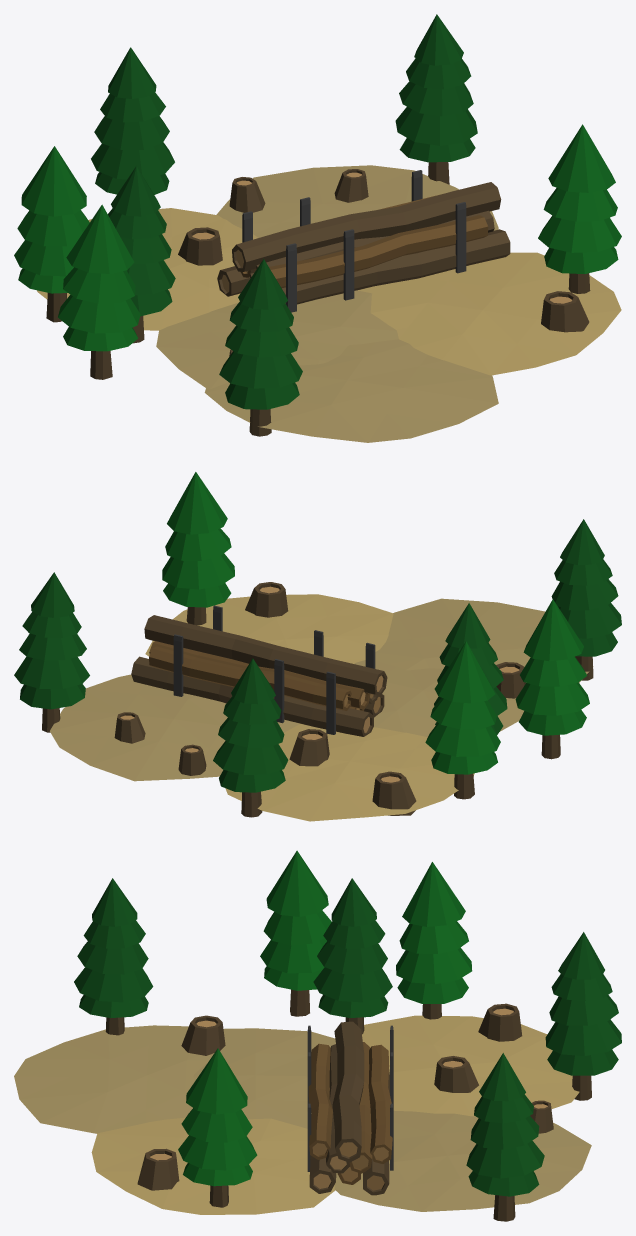
The model's file is loggingarea.fbx.
3 renders of one model, top to bottom at view 1: azimuth 30°, elevation 25°; view 2: azimuth 150°, elevation 25°; view 3: azimuth 270°, elevation 25°, orthographic. The views are drawn at different scales.
Parts seen in each view (by area): view 1: logarea; view 2: logarea; view 3: logarea.
Boxes of the visible parts, left/top/right/bottom form: logarea: left=14, top=14, right=621, bottom=442; logarea: left=14, top=472, right=621, bottom=821; logarea: left=14, top=850, right=621, bottom=1221.
Size of the model in its own units: 15.7 by 5.1 by 16.96.
Materials: 1 (1 with a texture image).
